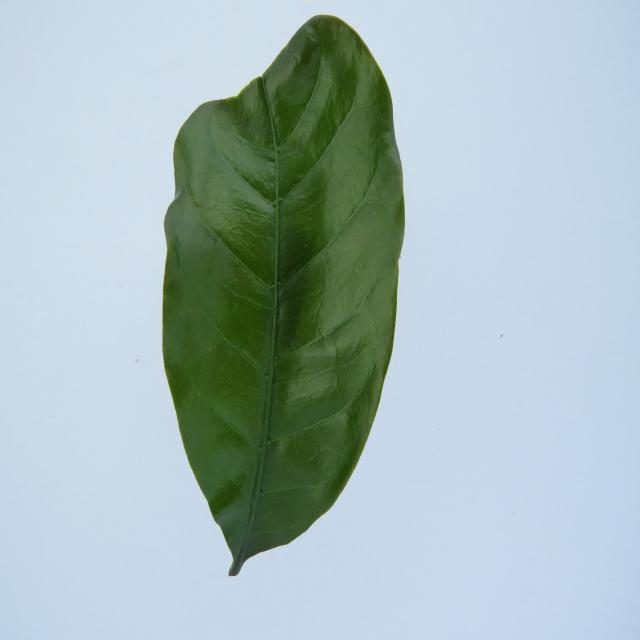DeficienciaNutricional-Boro: (162, 15, 404, 575)
